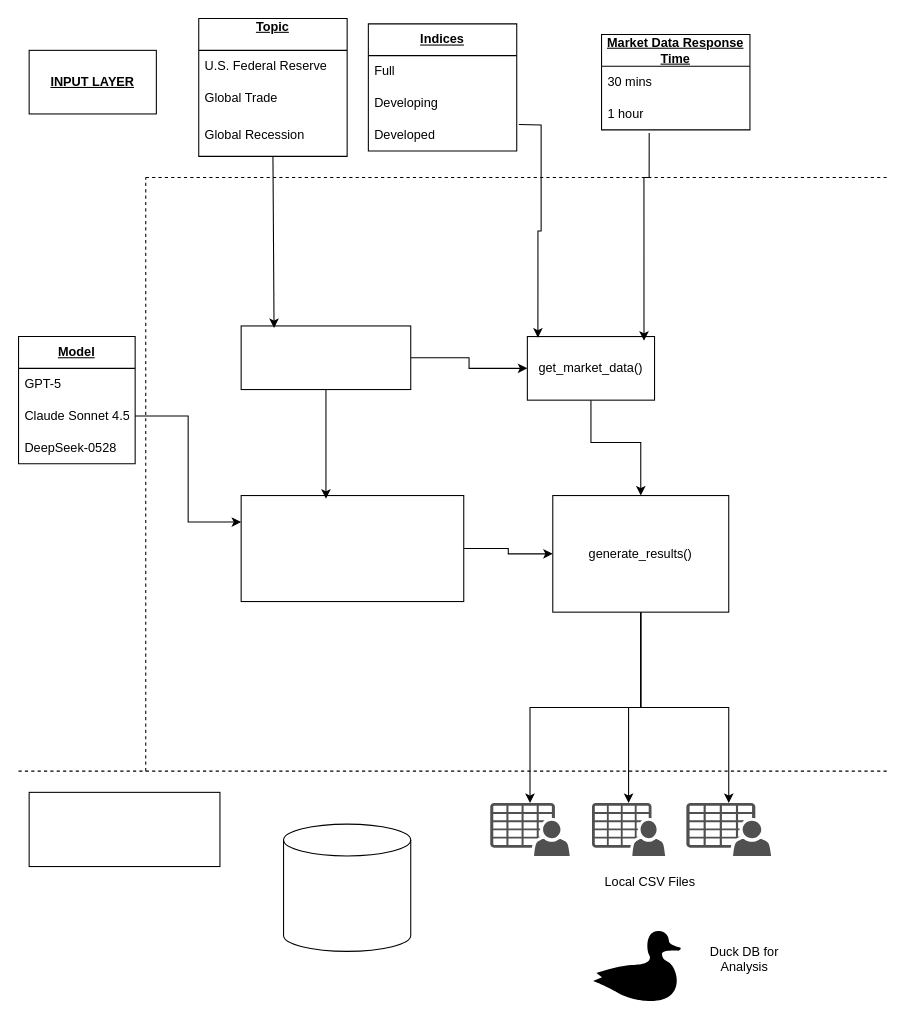
Image size: 907x1023. Some labels were removed from this diagram. Here are the shapes that lost their labels. From the top down, the centre of each, then its label:
(x=325, y=357): get_news()
(x=352, y=548): generate_ratings()
(x=124, y=829): RESULTS LAYER
(x=346, y=887): Metadata (SQLite3)
